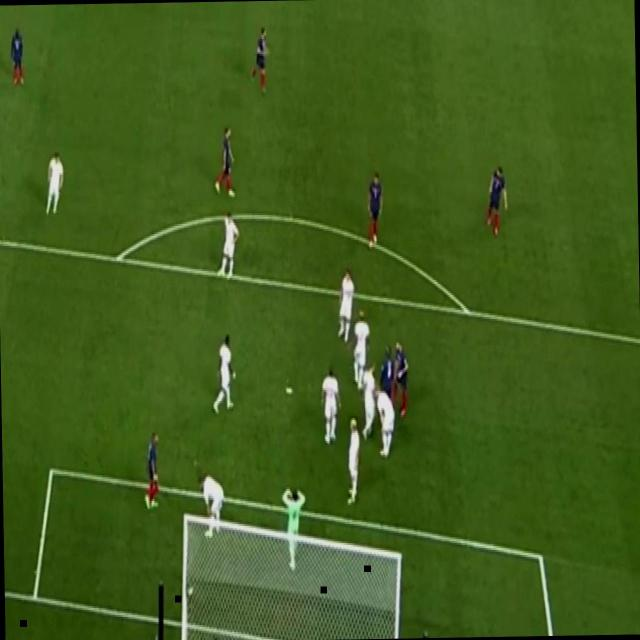player-white: (281, 488, 307, 574), (211, 334, 236, 416), (198, 472, 226, 540), (213, 122, 237, 200), (374, 383, 398, 459), (320, 364, 342, 446), (216, 210, 242, 278), (484, 165, 508, 237), (352, 306, 372, 392), (344, 414, 362, 508), (248, 26, 272, 96), (391, 337, 411, 418), (336, 268, 356, 344), (44, 149, 66, 217), (143, 430, 161, 511), (366, 170, 384, 249), (362, 359, 379, 440), (378, 344, 396, 401), (10, 29, 26, 87)
